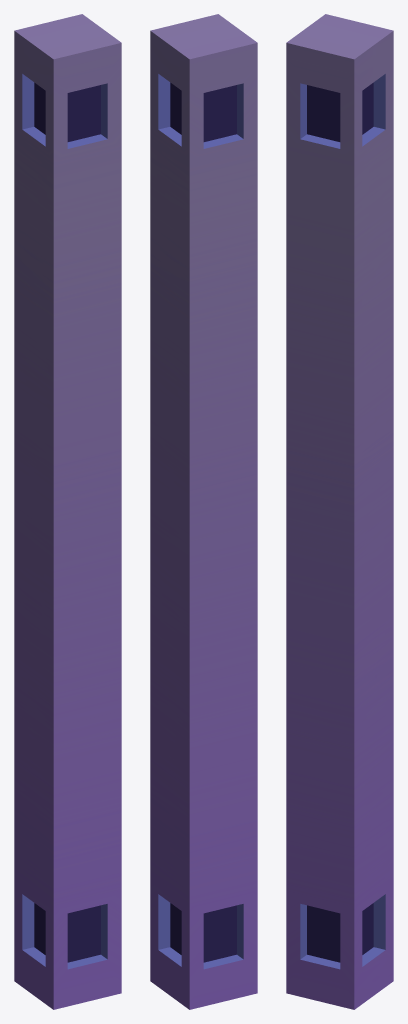
File: corner_01.gltf
3 renders of one model, left to right at view 1: azimuth 30°, elevation 25°; view 2: azimuth 210°, elevation 25°; view 3: azimuth 330°, elevation 25°, orthographic.
Visible parts, largest first — view 1: corner_01; view 2: corner_01; view 3: corner_01.
Boxes of the visible parts, <box> form: corner_01: <box>14,14,121,1009</box>; corner_01: <box>150,14,257,1009</box>; corner_01: <box>286,14,393,1009</box>.
Size of what is drawn, in the model's own units: 0.3 by 4 by 0.3.
Materials: 1 (1 with a texture image).
